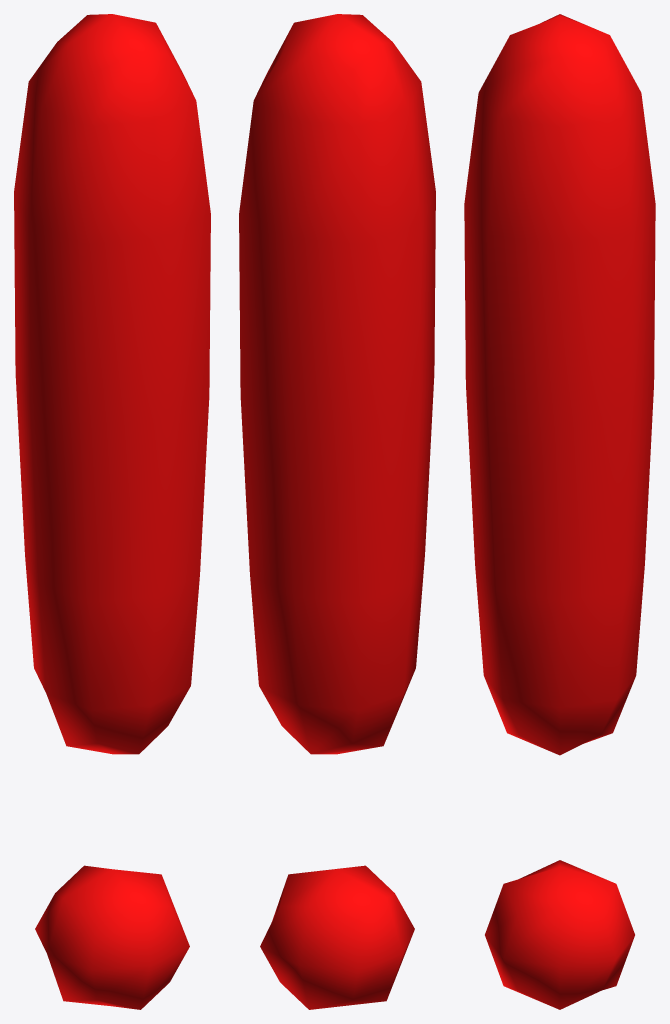
File: Exclamation.fbx
The picture shows the model from 3 angles, left to right: view 1: azimuth 30°, elevation 25°; view 2: azimuth 150°, elevation 25°; view 3: azimuth 270°, elevation 25°; orthographic projection.
Parts seen in each view (by area): view 1: Box001; view 2: Box001; view 3: Box001.
Part boxes in pixels (bbox=[...]): Box001: bbox=[14, 14, 210, 1009]; Box001: bbox=[239, 14, 435, 1009]; Box001: bbox=[464, 14, 655, 1009].
Size of the model in its own units: 11.29 by 64.28 by 11.29.
